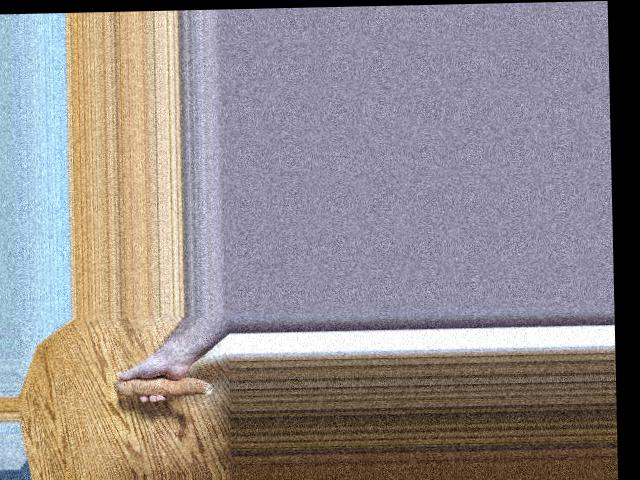sweet_potato: (112, 366, 214, 398)
